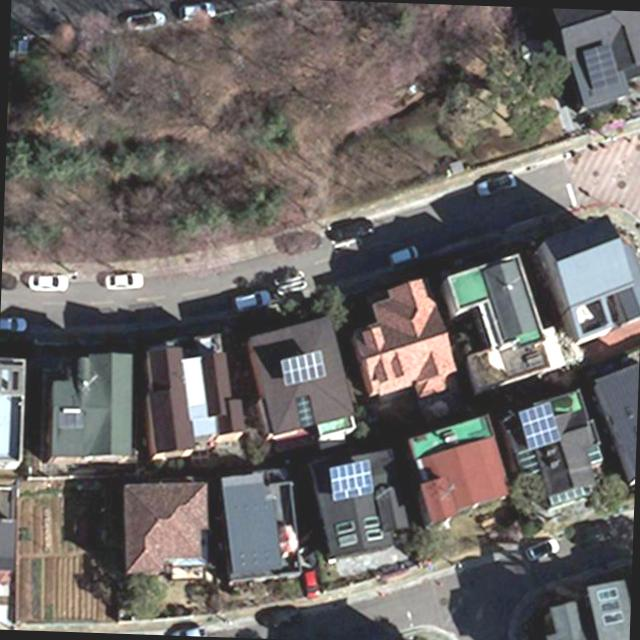solar: (514, 398, 564, 452), (326, 456, 376, 503), (581, 41, 625, 93), (279, 348, 331, 390)
